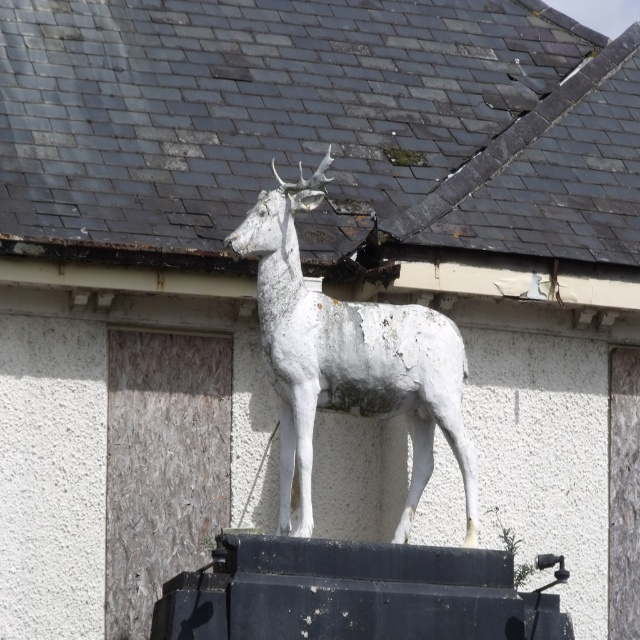Deer: (224, 143, 480, 545)
